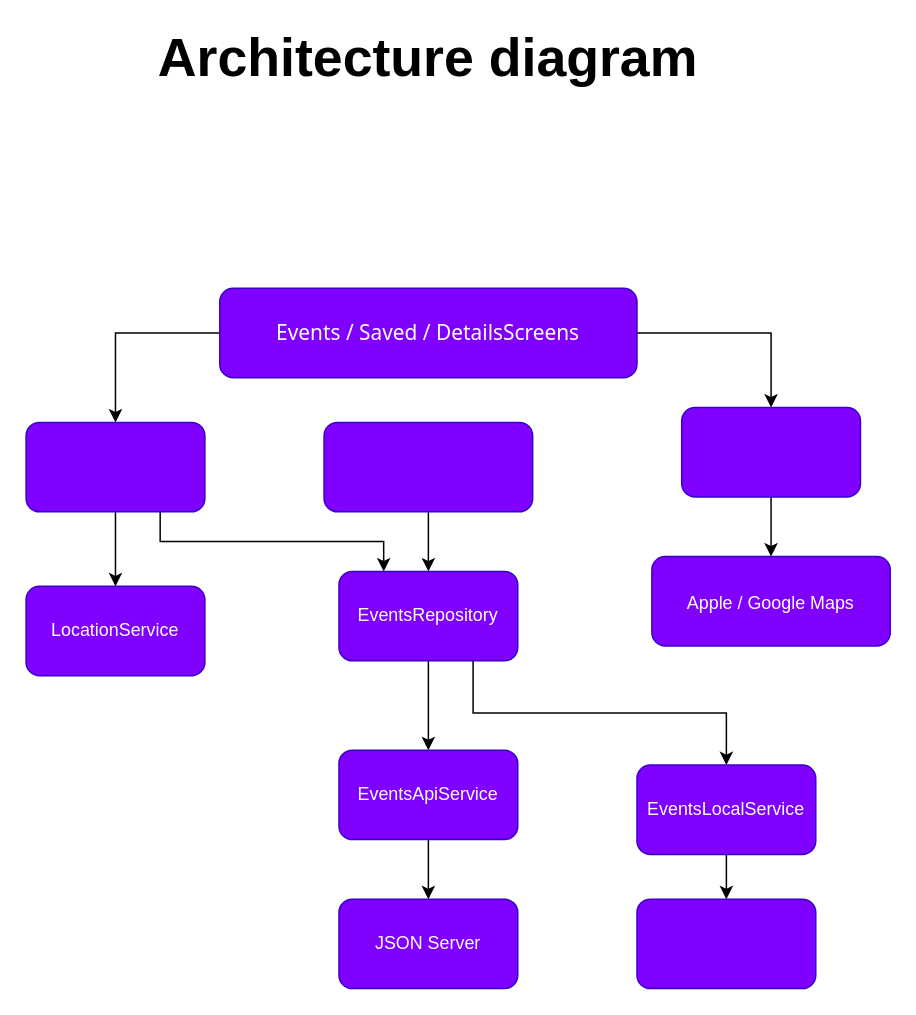
This 916x1015 diagram has some shape labels left out. Each missing label, with the centre of its shape:
"Background Refresh" belongs at point 428,466.
"EventsViewModel" belongs at point 115,466.
"MapsLauncher" belongs at point 770,451.
"SQLite Database" belongs at point 725,943.
